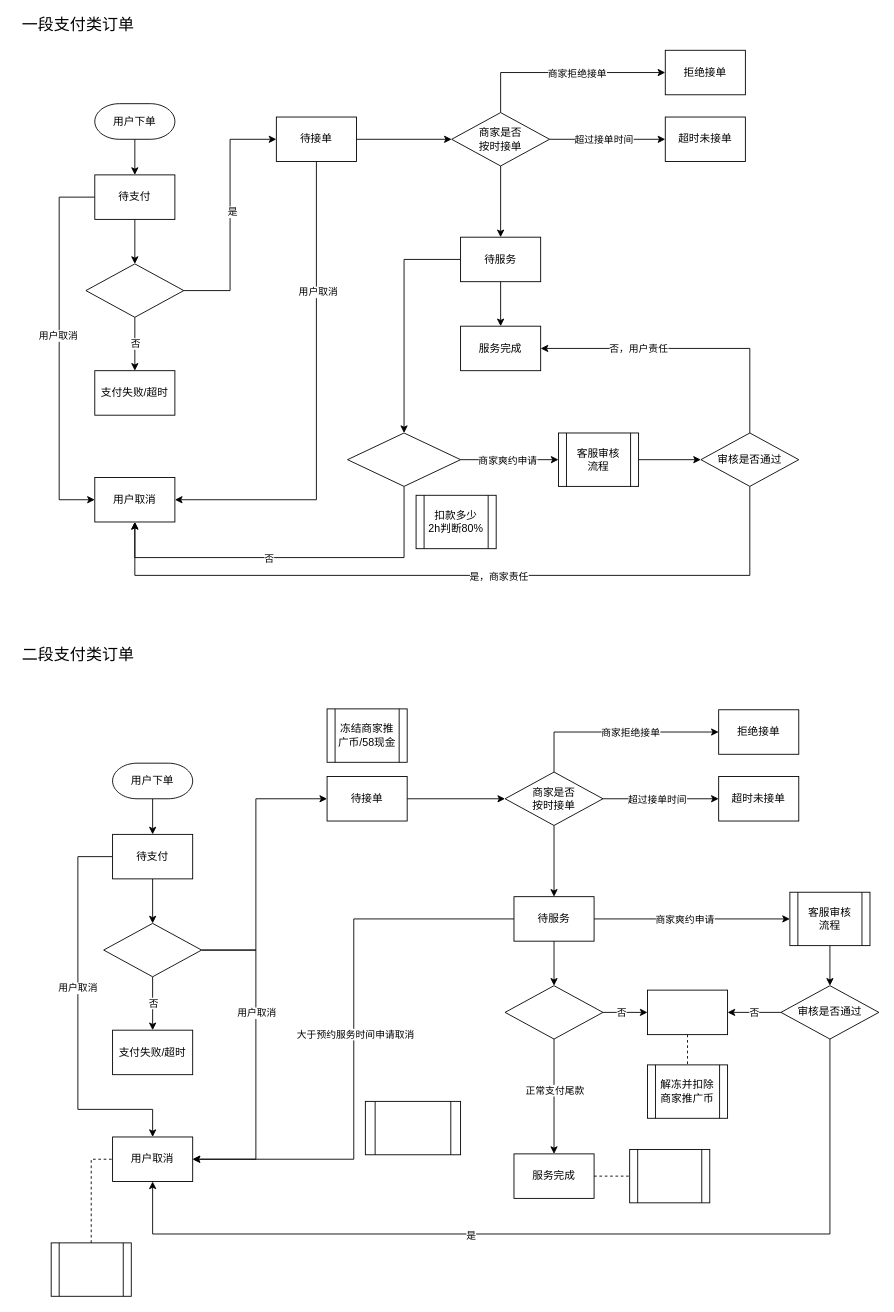
Some shapes in this 894 by 1312 pixel diagram are drawn without their labels. The shapes that lost their labels are listed below. From the top down, each one's box as (x1, y1, x2, y2) in pixels, then its label:
(85, 263, 184, 317): 是否支付成功
(347, 432, 461, 486): 取消时间是否超过 预约服务时间
(103, 922, 202, 977): 是否支付 预付款成功
(504, 985, 603, 1039): 是否支付尾款
(647, 989, 728, 1035): 尾款支付失败
(364, 1100, 461, 1155): 根据是否大于预约服务时间2h是否扣除预付金
(629, 1149, 710, 1203): 解冻商家推广币
(50, 1242, 131, 1296): 商家可申请退推广币
